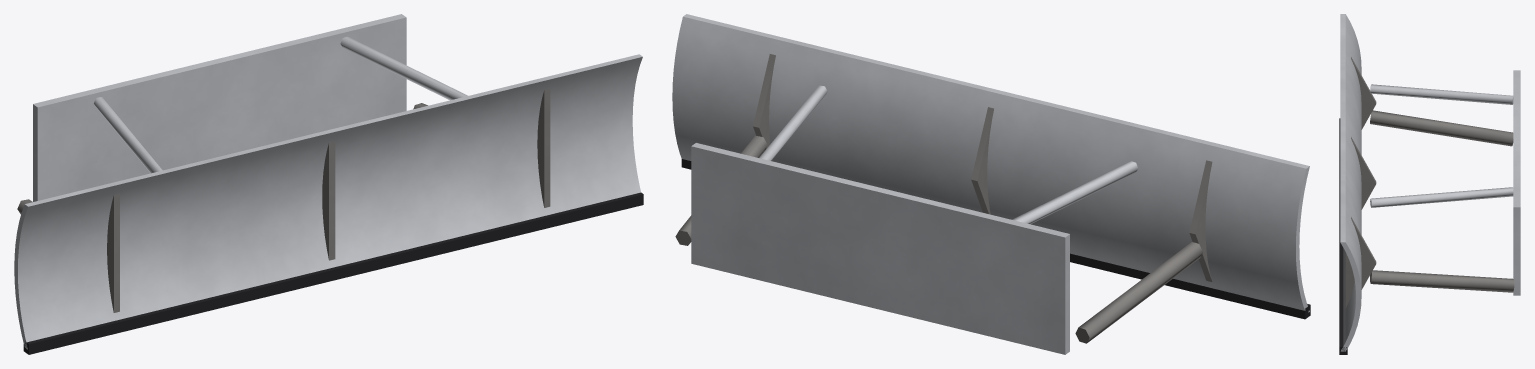
Rendered from rover32_dozer_scoop_l.glb.
3 renders of one model, left to right at view 1: azimuth 30°, elevation 25°; view 2: azimuth 150°, elevation 25°; view 3: azimuth 270°, elevation 25°, orthographic. The views are drawn at different scales.
Visible parts, largest first — view 1: blade, mount_plate, blade_edge, blade_ribs, arm_rams; view 2: blade, mount_plate, arm_push, blade_ribs, arm_rams, blade_edge; view 3: blade, arm_push, arm_rams, blade_ribs, mount_plate, blade_edge.
Part boxes in pixels (x1,y1,x2,y2): blade: [14, 54, 642, 349]; mount_plate: [33, 14, 406, 201]; blade_edge: [23, 192, 643, 354]; blade_ribs: [107, 89, 550, 312]; arm_rams: [94, 36, 467, 173]; blade: [672, 14, 1309, 312]; mount_plate: [691, 143, 1069, 354]; arm_push: [675, 135, 1202, 343]; blade_ribs: [753, 54, 1212, 281]; arm_rams: [759, 85, 1138, 224]; blade_edge: [681, 159, 1310, 319]; blade: [1340, 14, 1361, 351]; arm_push: [1370, 110, 1514, 292]; arm_rams: [1370, 84, 1513, 207]; blade_ribs: [1345, 57, 1376, 308]; mount_plate: [1513, 70, 1520, 295]; blade_edge: [1339, 118, 1347, 354].
Bounding box in the file's own units: 3 × 0.689 × 1.
3 materials, 2 textured.
